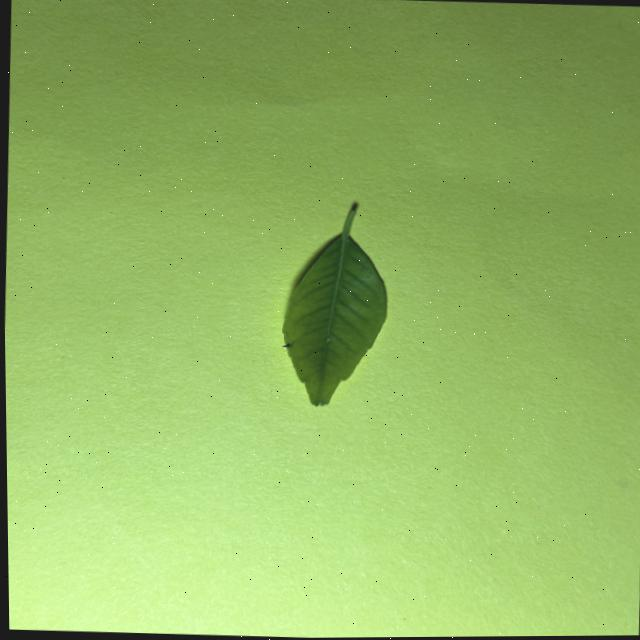greening: (282, 206, 387, 406)
